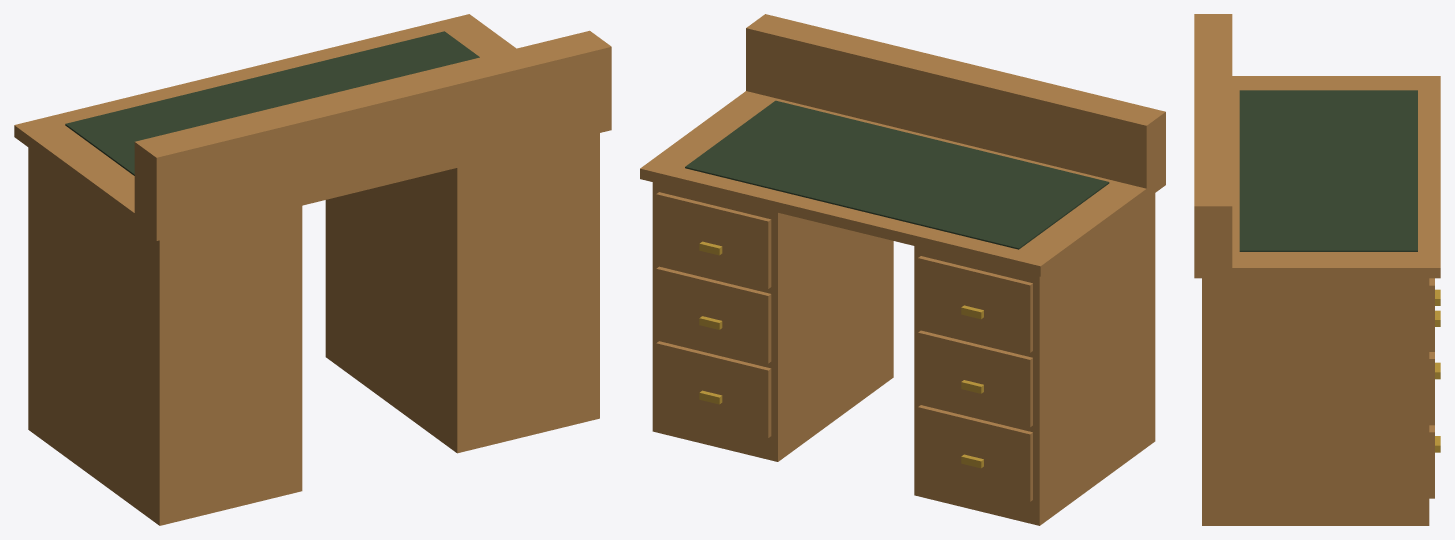
File: parametric-desk-service.glb
The picture shows the model from 3 angles, left to right: view 1: azimuth 30°, elevation 25°; view 2: azimuth 150°, elevation 25°; view 3: azimuth 270°, elevation 25°; orthographic projection. The views are drawn at different scales.
Parts seen in each view (by area): view 1: parametric-desk-service; view 2: parametric-desk-service; view 3: parametric-desk-service.
Part boxes in pixels (x1,y1,x2,y2): parametric-desk-service: (14,14,611,525); parametric-desk-service: (640,14,1165,525); parametric-desk-service: (1194,14,1440,525).
Size of the model in its own units: 1.2 by 0.94 by 0.65.
